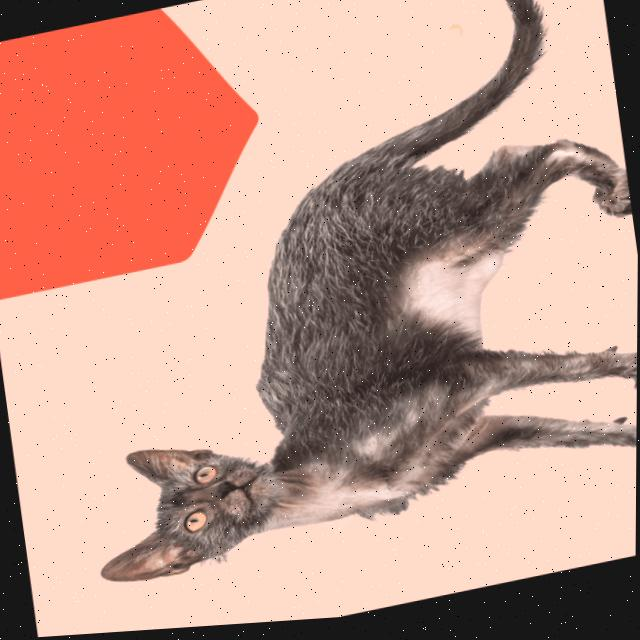Lykoi: (20, 0, 640, 599)
